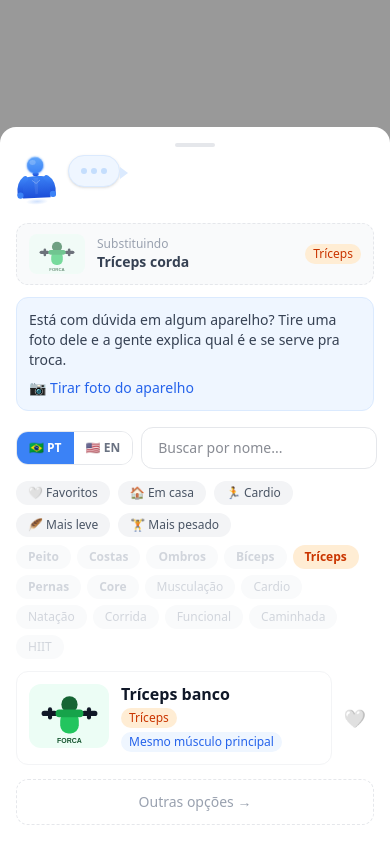
Test: SwapModal timeout handling › prevents duplicate swaps while one swap is pending
Click the button "Tríceps banco": x=174, y=718 [16, 671, 332, 765]
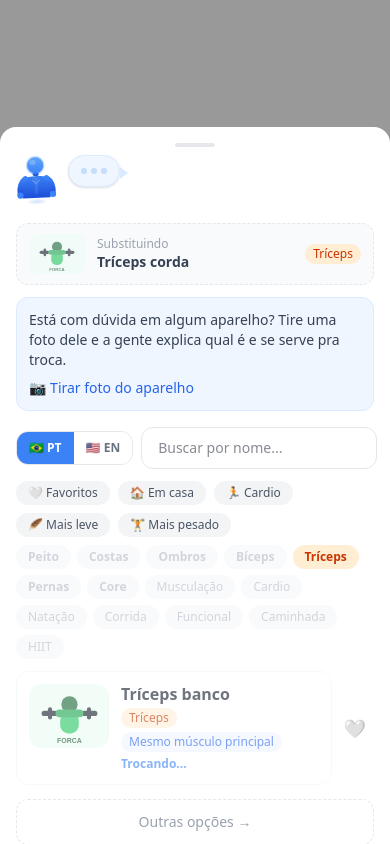
Click the button "Tríceps banco": x=174, y=728 [16, 671, 332, 785]
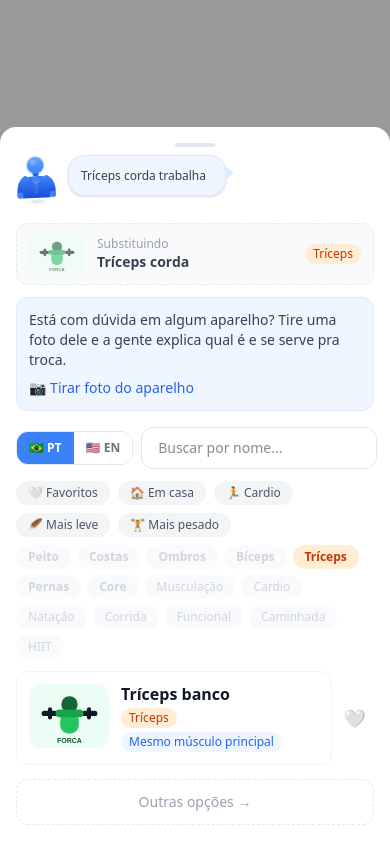
Result: the button "Tríceps banco" is enabled at [16, 671, 332, 765]
